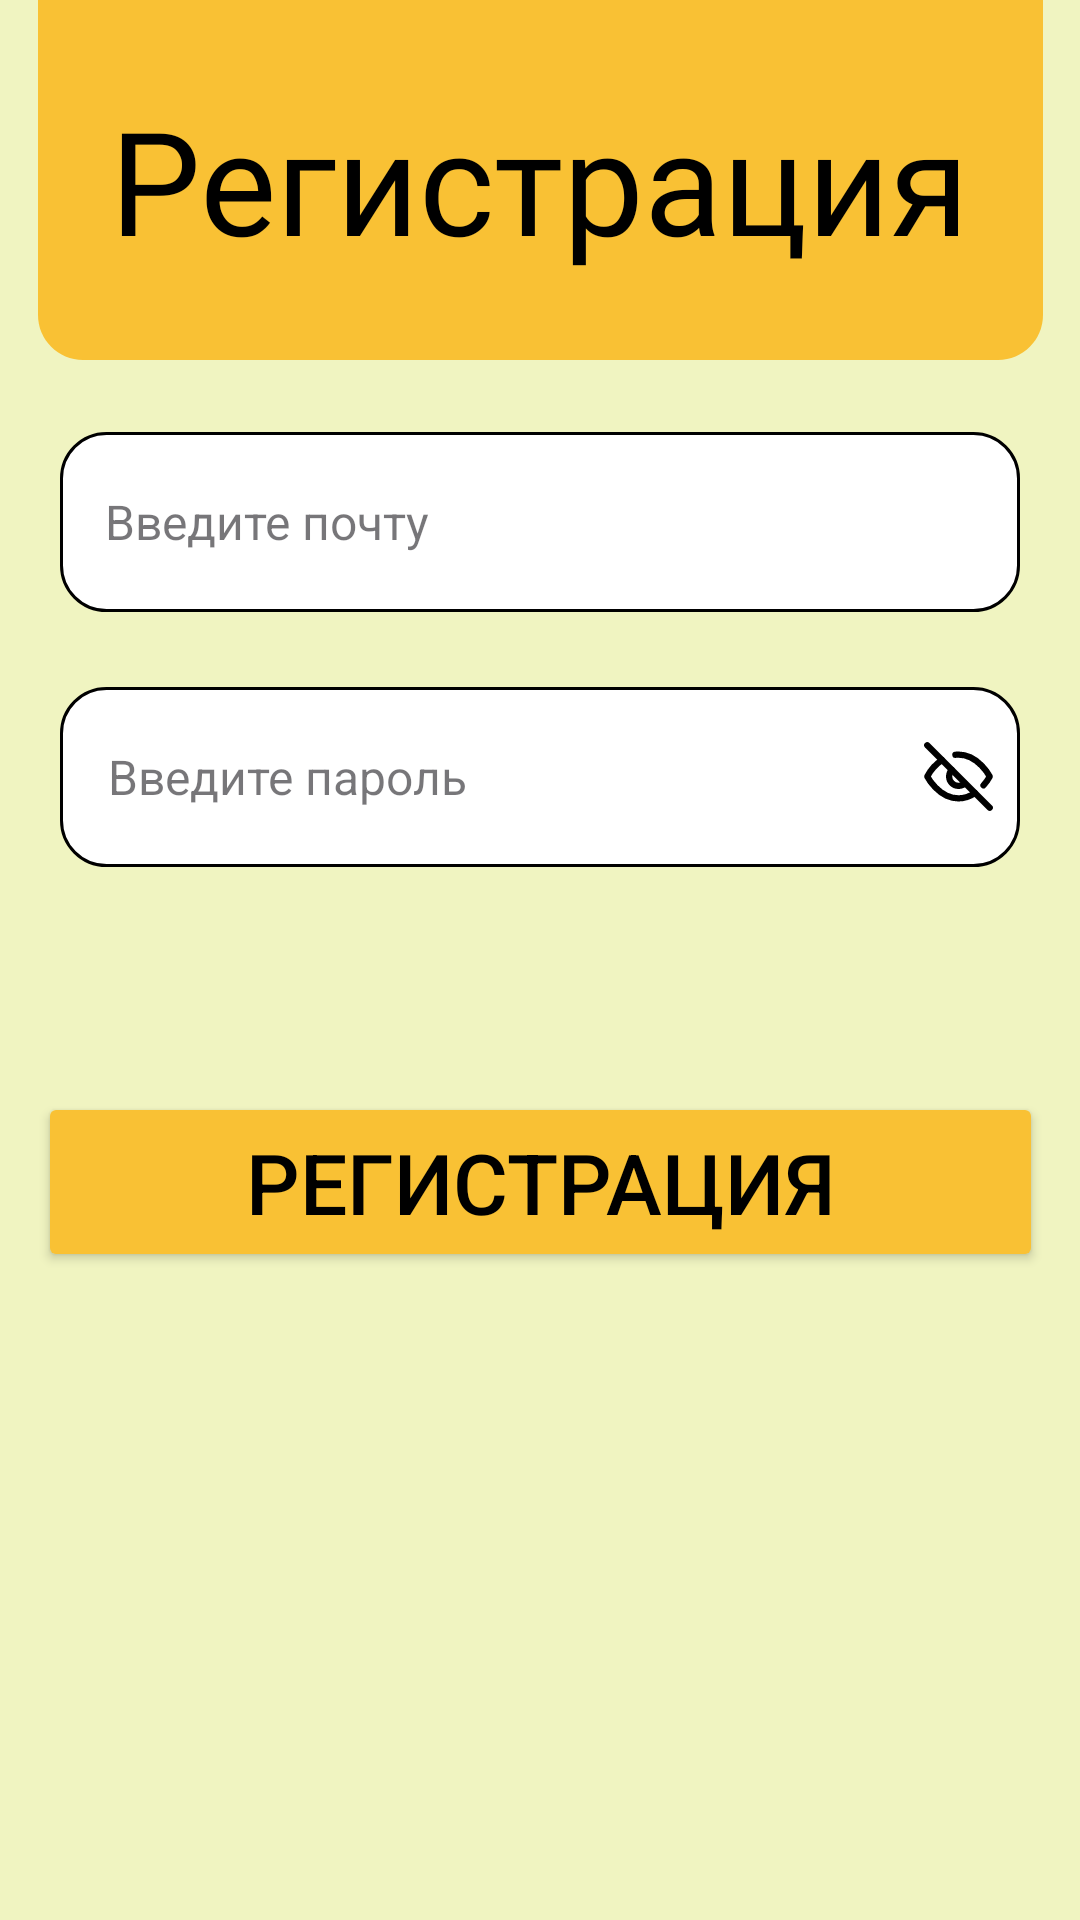

Named icons in this screenshot (1080px x 1920px) and their centers, [x,y]:
hidepassword: [958,776]
